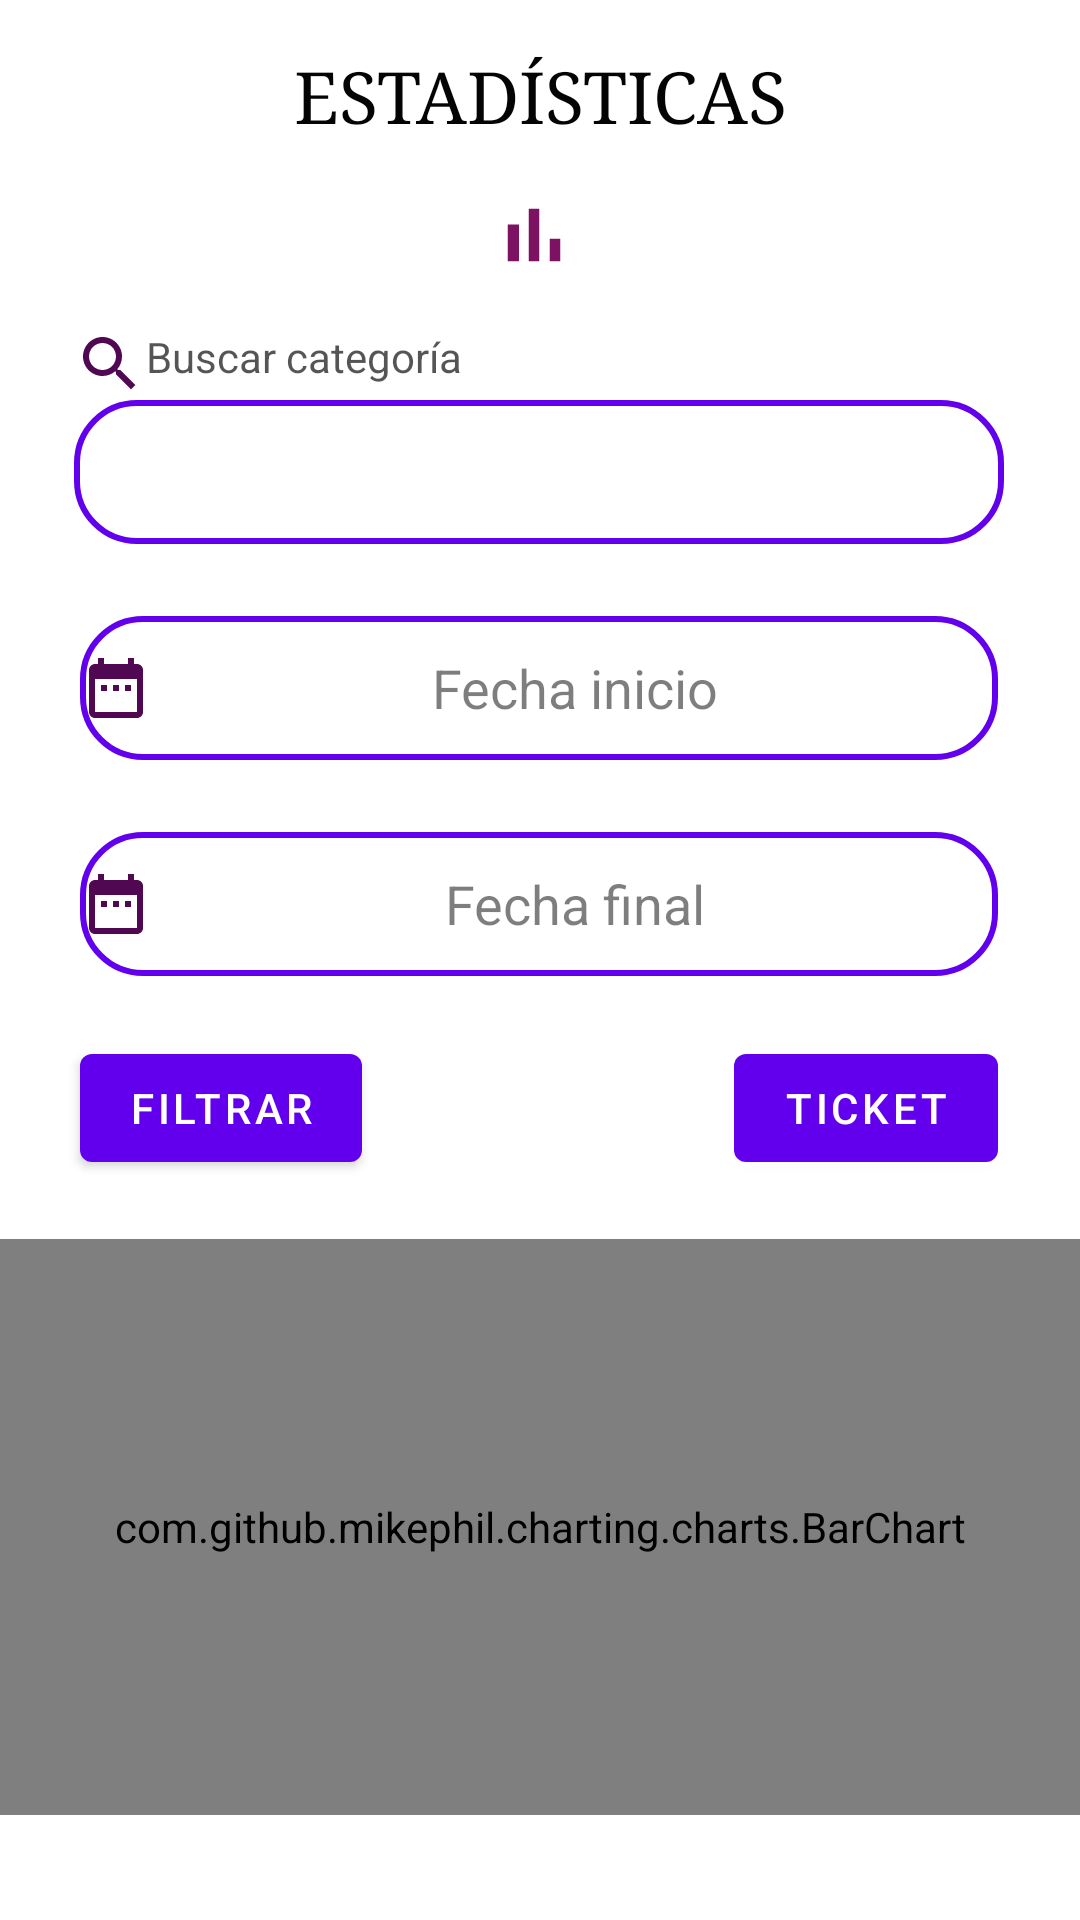

Icons on this 1080px x 1920px Android screen, each with the point to tap as (x,y):
bar chart: (534,235)
